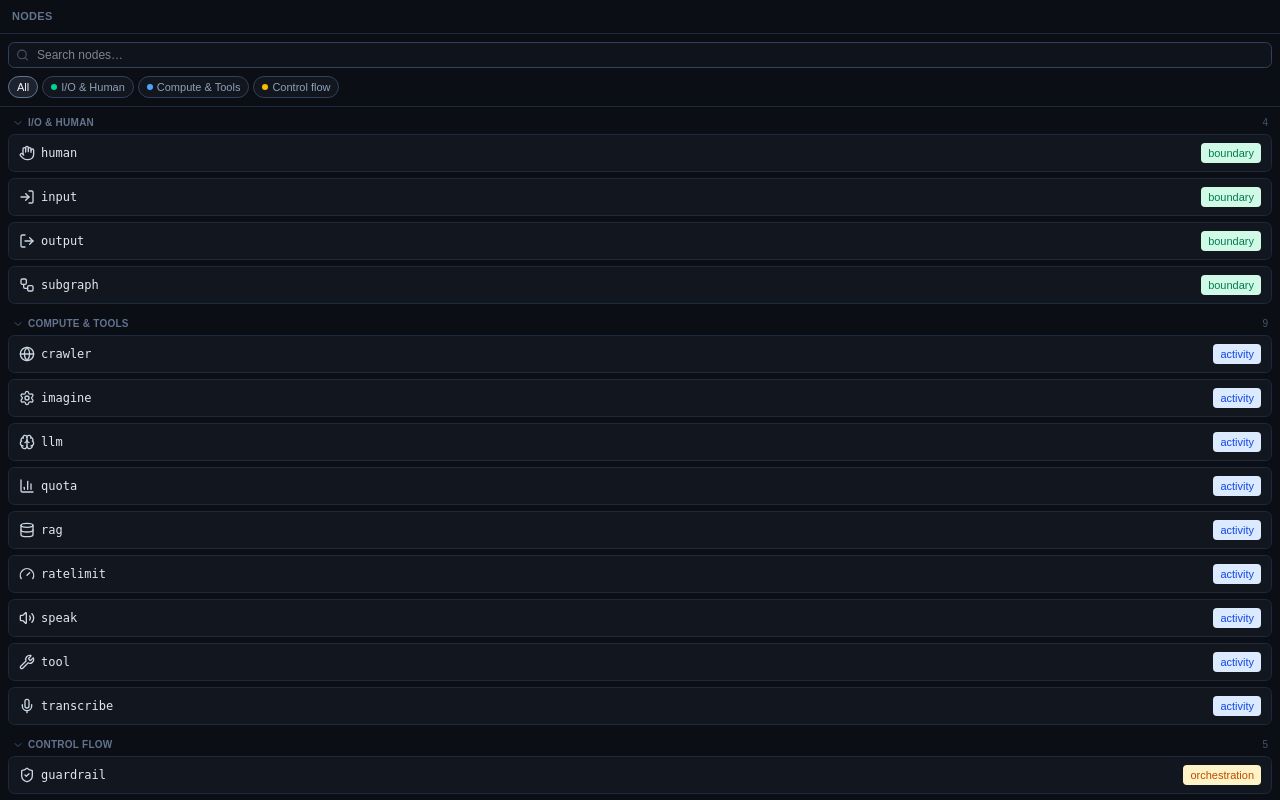
Palette (derived from the registry, never hardcoded) › filters to a single category when its chip is clicked
The width and height of the screenshot is (1280, 800).
Click the button "I/O & Human" at (88, 87), box [42,76,134,98]
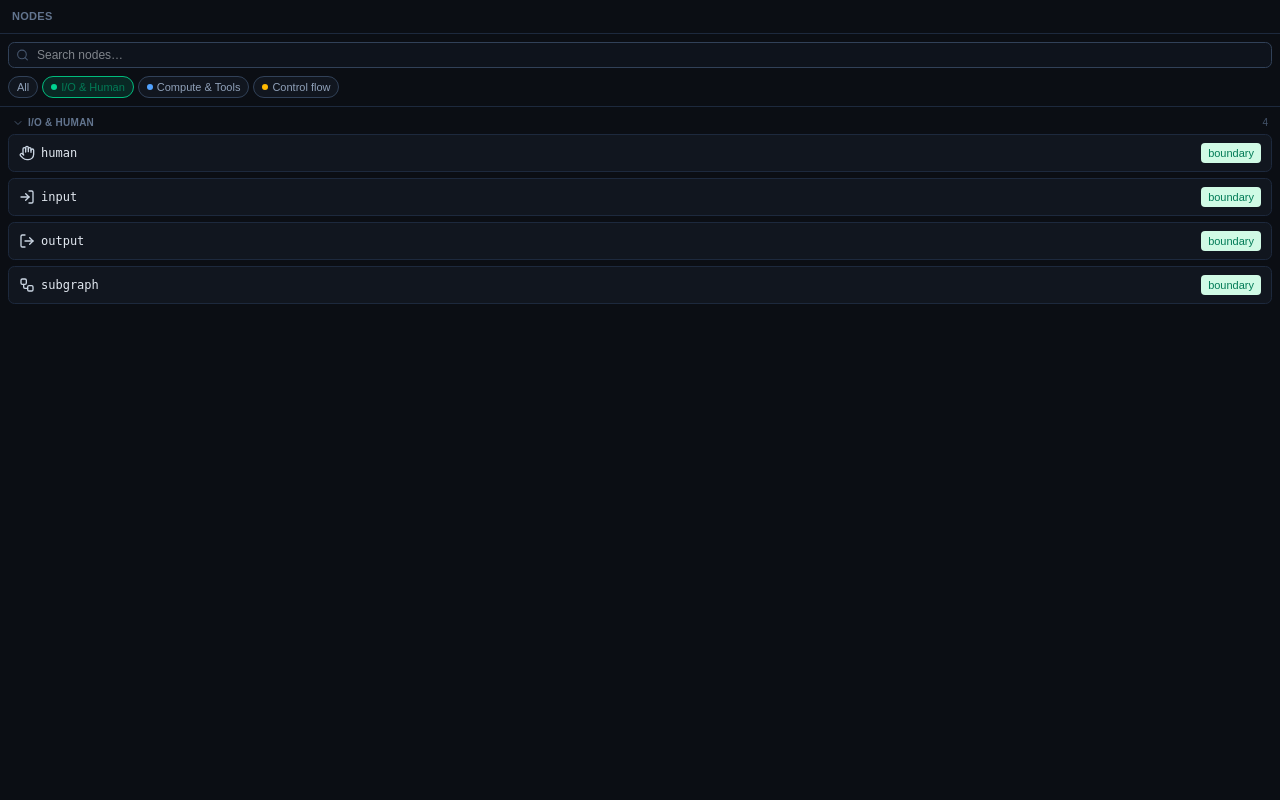
Expected: the text "human" is shown, [41,145,77,161]
Expected: the button "crawler" is gone
